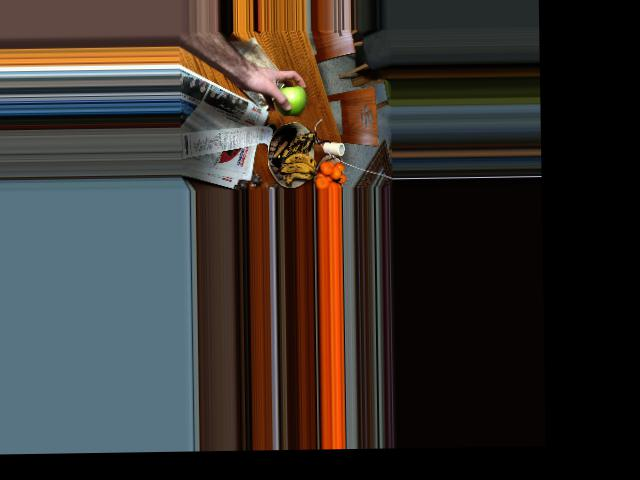apple: (272, 86, 306, 117)
